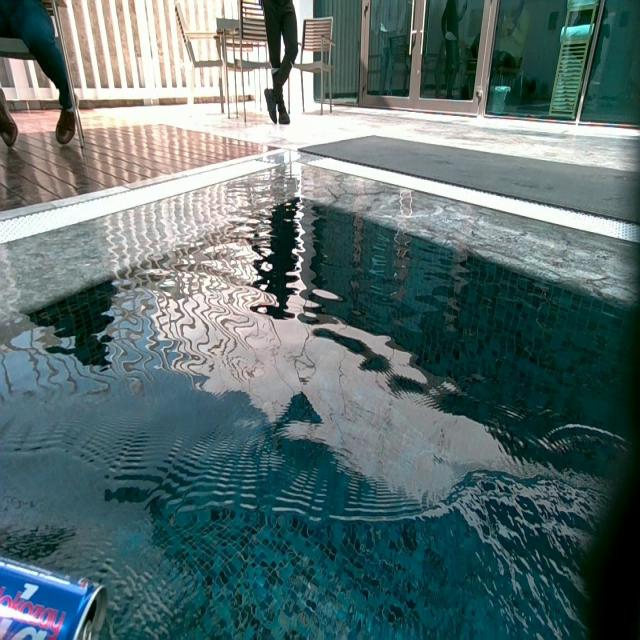Cans: (1, 551, 108, 637)
